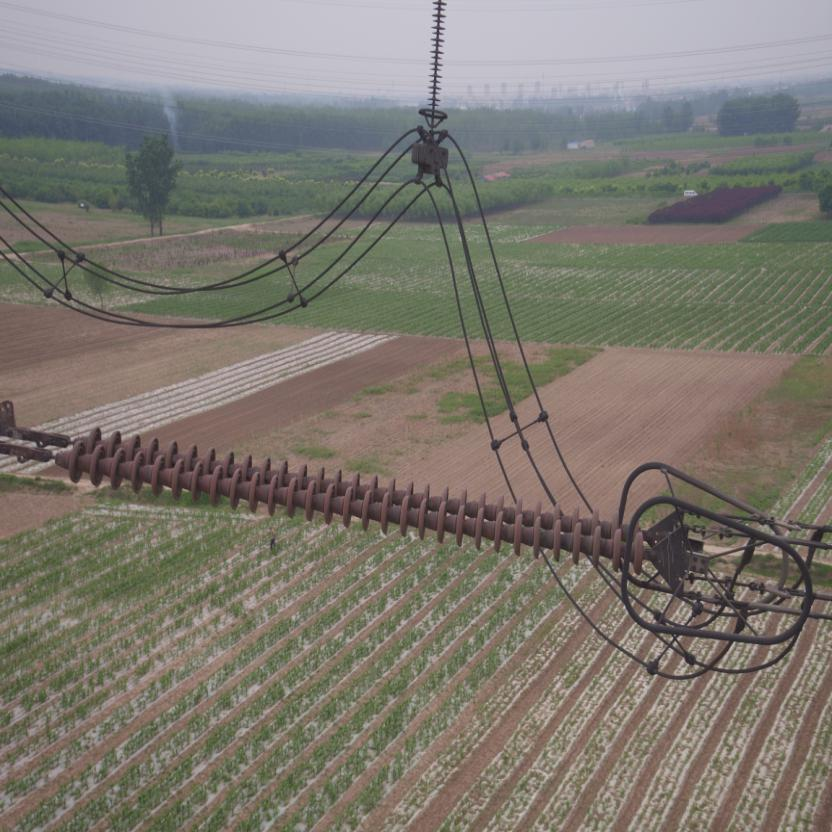insulator: (38, 419, 665, 575)
